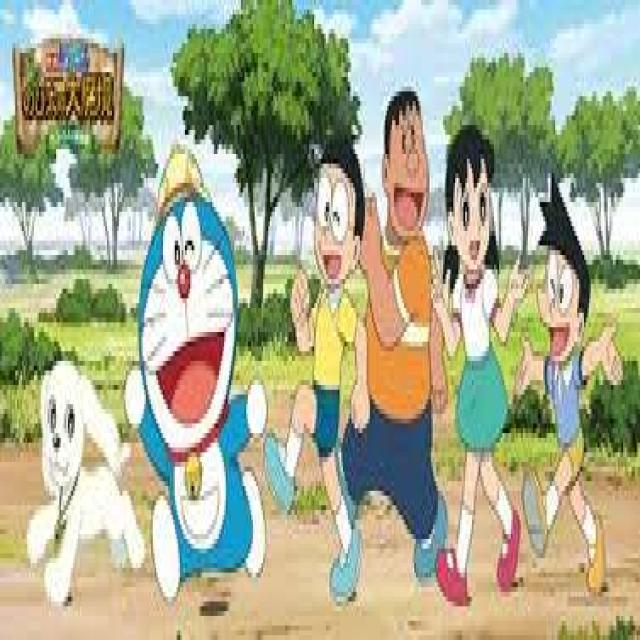doraemon: (122, 149, 263, 534)
jaian: (375, 77, 440, 313)
nobita: (306, 110, 370, 370)
shizuka: (435, 91, 511, 318)
suneo: (514, 154, 604, 419)
